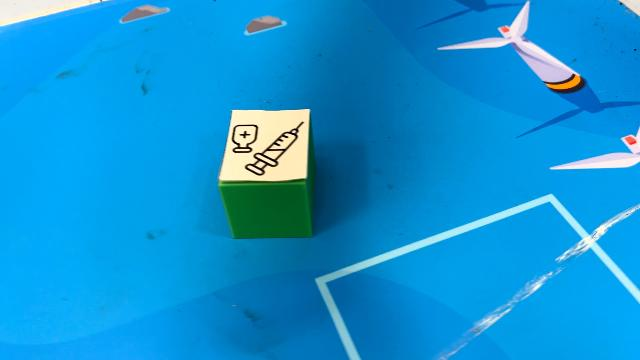syringe: (219, 110, 317, 240)
